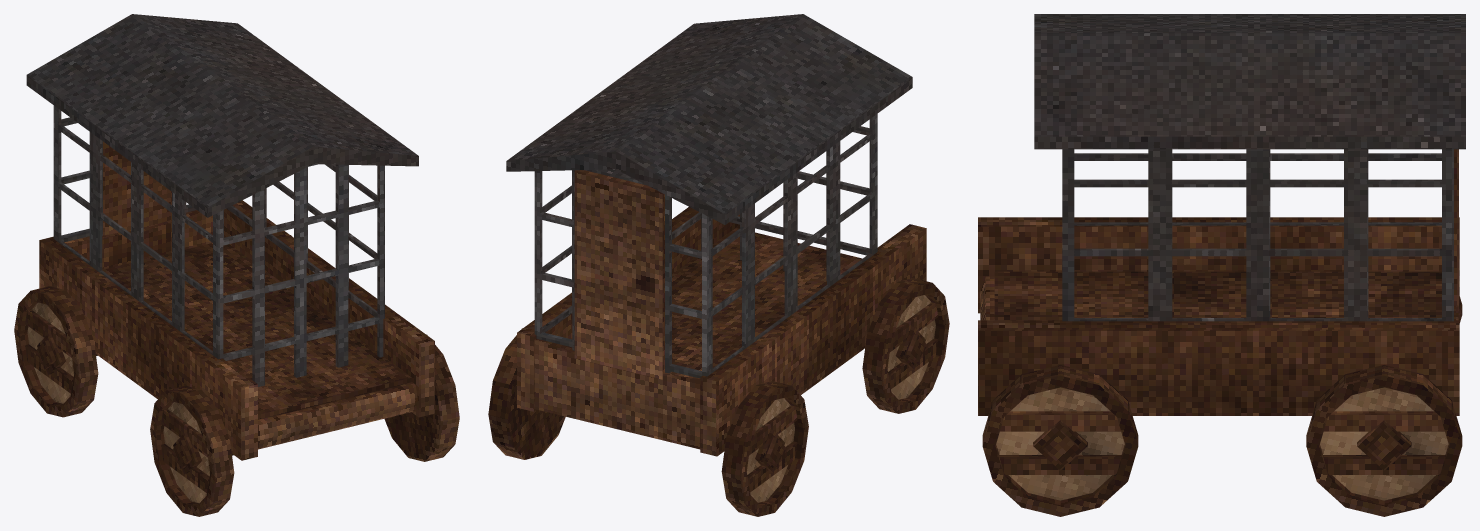
The model's file is Cart_3.gltf.
The picture shows the model from 3 angles, left to right: view 1: azimuth 30°, elevation 25°; view 2: azimuth 150°, elevation 25°; view 3: azimuth 270°, elevation 25°; orthographic projection. The views are drawn at different scales.
Parts seen in each view (by area): view 1: Cart_3, Wheels_2, Wheels_2.001; view 2: Cart_3, Wheels_2.001, Wheels_2; view 3: Cart_3, Wheels_2.001, Wheels_2.
Part boxes in pixels (bbox=[...]): Cart_3: bbox=[26, 14, 434, 460]; Wheels_2: bbox=[150, 334, 459, 516]; Wheels_2.001: bbox=[14, 235, 291, 417]; Cart_3: bbox=[506, 14, 926, 456]; Wheels_2.001: bbox=[488, 328, 808, 516]; Wheels_2: bbox=[862, 278, 949, 413]; Cart_3: bbox=[978, 14, 1465, 415]; Wheels_2.001: bbox=[1306, 296, 1462, 516]; Wheels_2: bbox=[982, 365, 1138, 516].
Size of the model in its own units: 6.13 by 8.13 by 8.74.
1 material, 1 textured.
